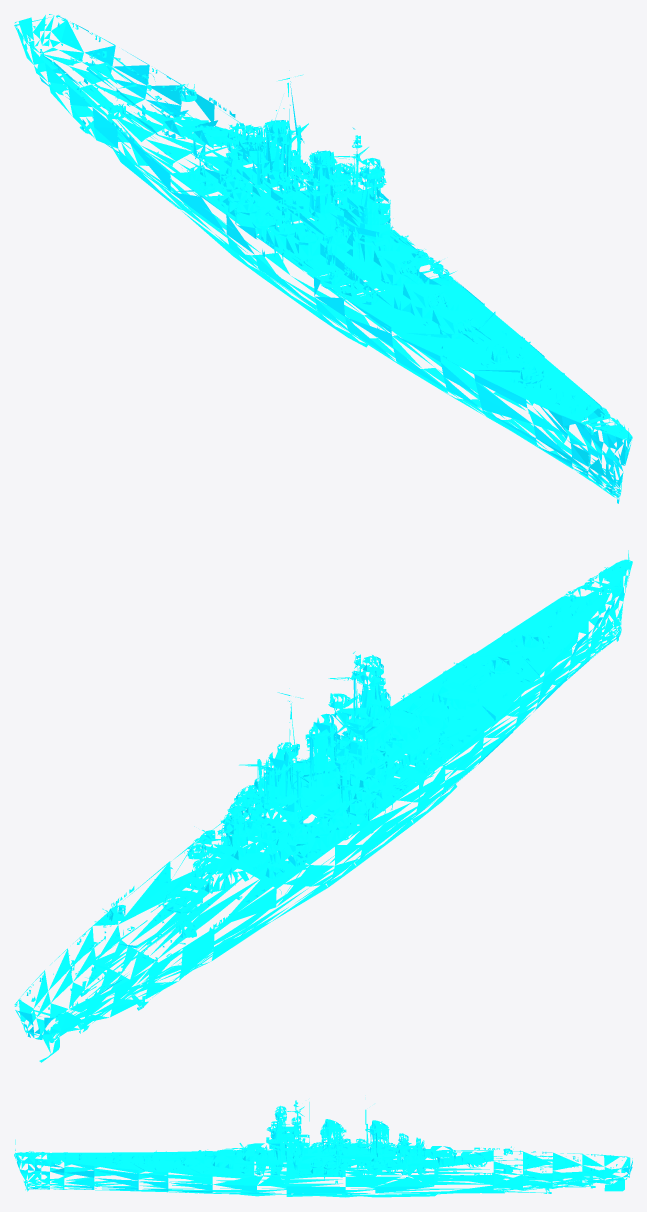
File: PISC990.glb
3 renders of one model, top to bottom at view 1: azimuth 30°, elevation 25°; view 2: azimuth 150°, elevation 25°; view 3: azimuth 270°, elevation 25°, orthographic. The views are drawn at different scales.
Visible parts, largest first — view 1: hull, turret; view 2: hull, turret; view 3: hull, turret.
Boxes of the visible parts, x1,y1,x2,y2 form: hull: (14,14,632,503); turret: (102,83,540,382); hull: (14,550,632,1062); turret: (102,629,540,938); hull: (14,1100,632,1197); turret: (110,1138,514,1175).
Size of the model in its own units: 1.74 by 2.84 by 15.89.
